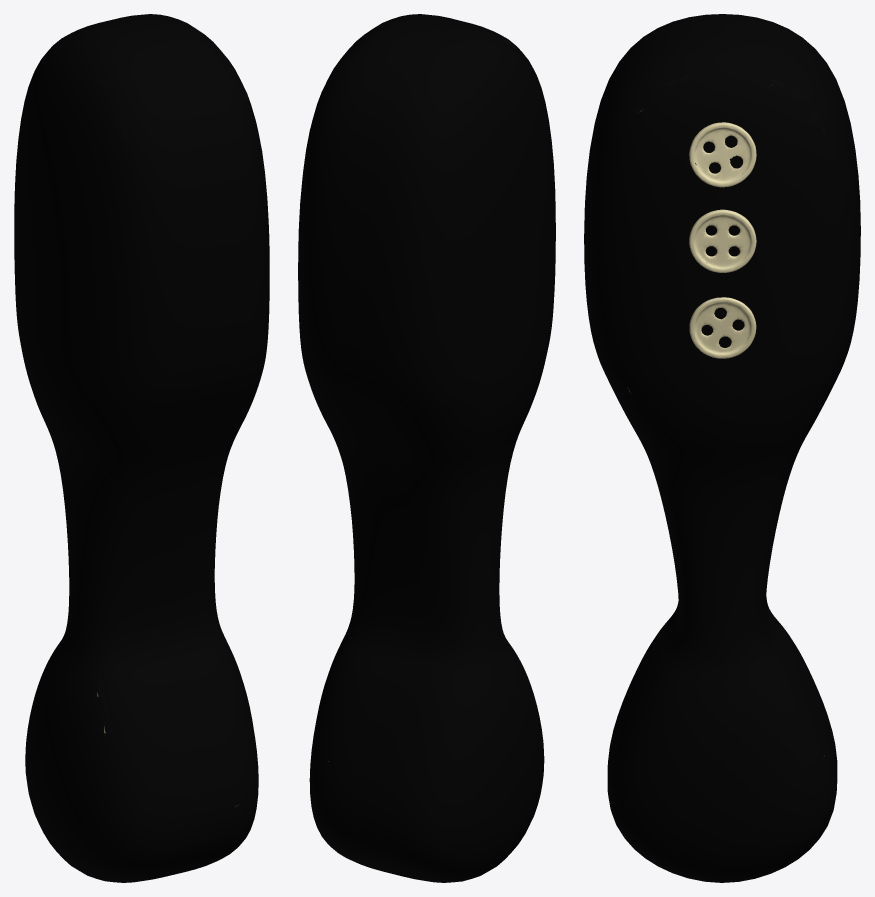
File: mdlCuerpoP.obj
3 views of the same model, side by side, from view 1: azimuth 30°, elevation 25°; view 2: azimuth 150°, elevation 25°; view 3: azimuth 270°, elevation 25° (orthographic).
Visible parts, largest first — view 1: mdlCuerpo; view 2: mdlCuerpo; view 3: mdlCuerpo.
Part boxes in pixels (x1,y1,x2,y2): mdlCuerpo: (14, 14, 269, 882); mdlCuerpo: (298, 14, 555, 882); mdlCuerpo: (584, 14, 860, 882).
Size of the model in its own units: 0.4273 by 1.73 by 0.5217.
1 material, 1 textured.
